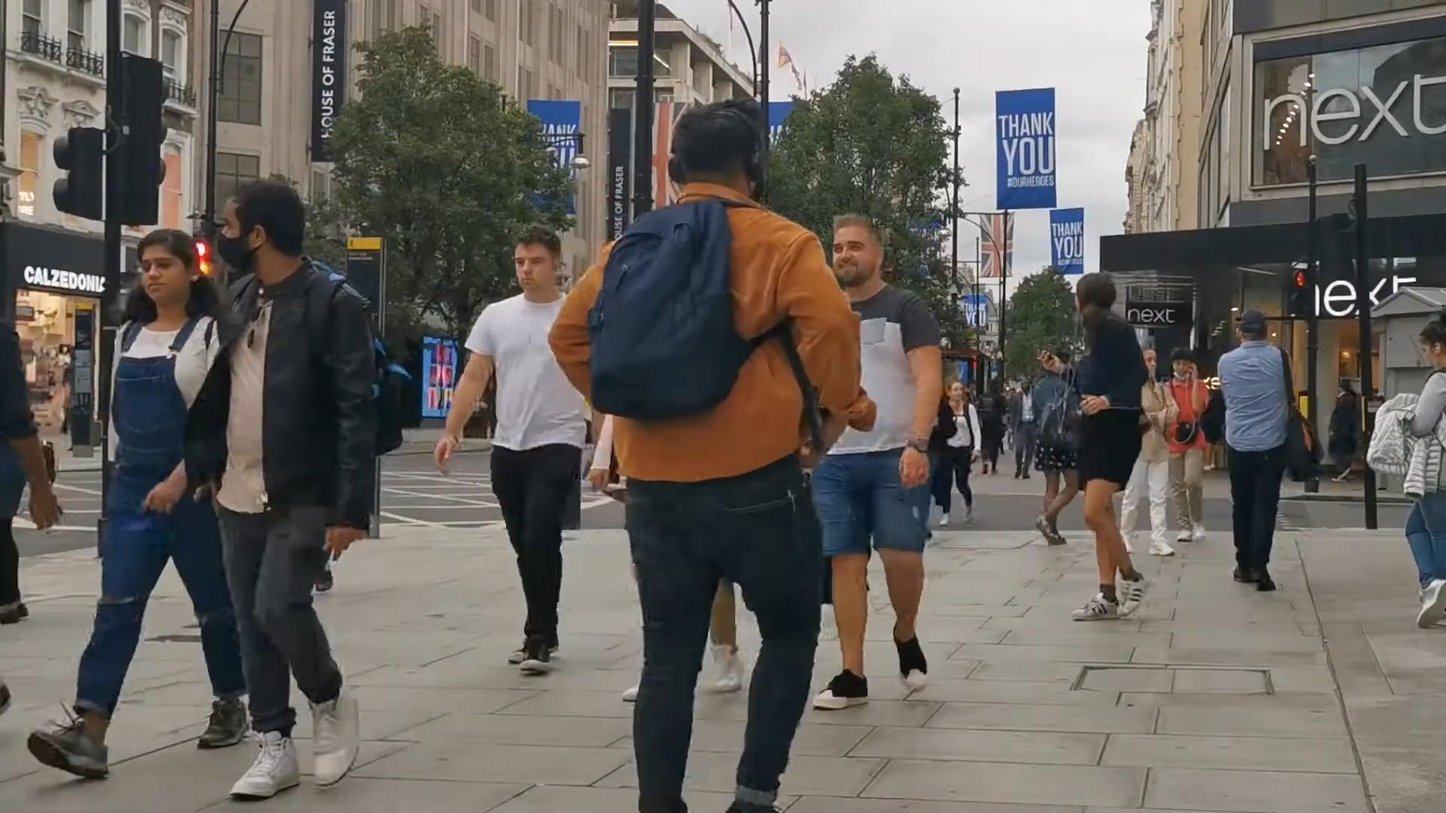no-helmet: (667, 96, 767, 201), (217, 178, 306, 277), (126, 228, 216, 314), (833, 213, 884, 291), (515, 225, 561, 289), (1075, 272, 1116, 333), (1418, 308, 1446, 370), (1235, 308, 1269, 344), (1171, 346, 1194, 382), (947, 380, 963, 403)
